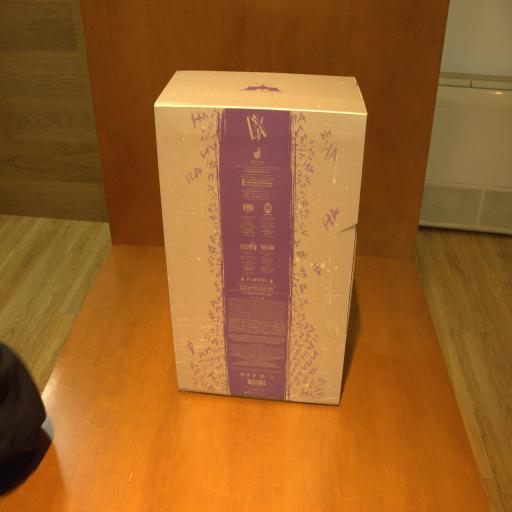Joker: (154, 66, 366, 407)
